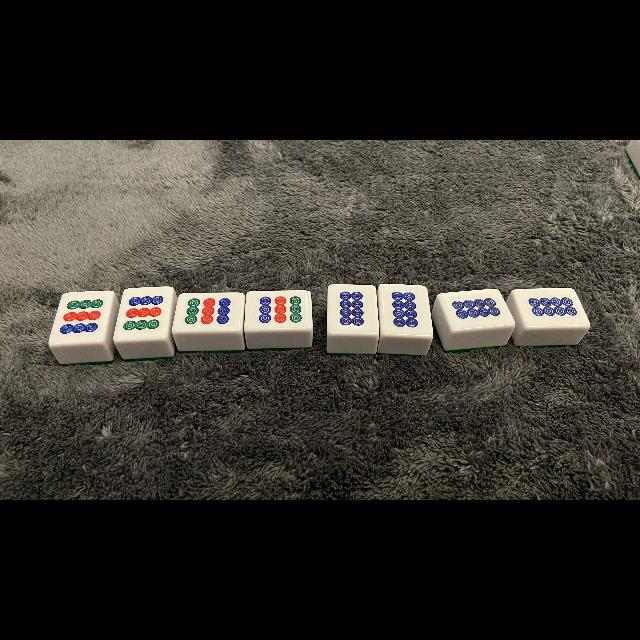d8: (518, 288, 584, 326), (382, 284, 430, 336), (446, 290, 508, 330), (329, 284, 375, 332)
d9: (56, 292, 108, 342), (119, 288, 168, 338), (176, 294, 240, 330), (248, 291, 310, 327)
